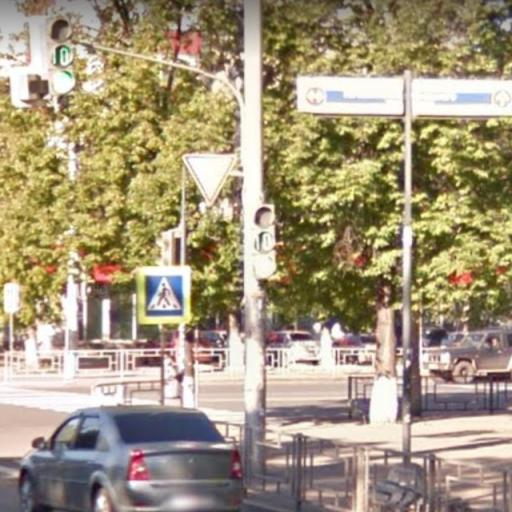traffic_sign: (179, 147, 241, 210), (135, 269, 192, 325)
